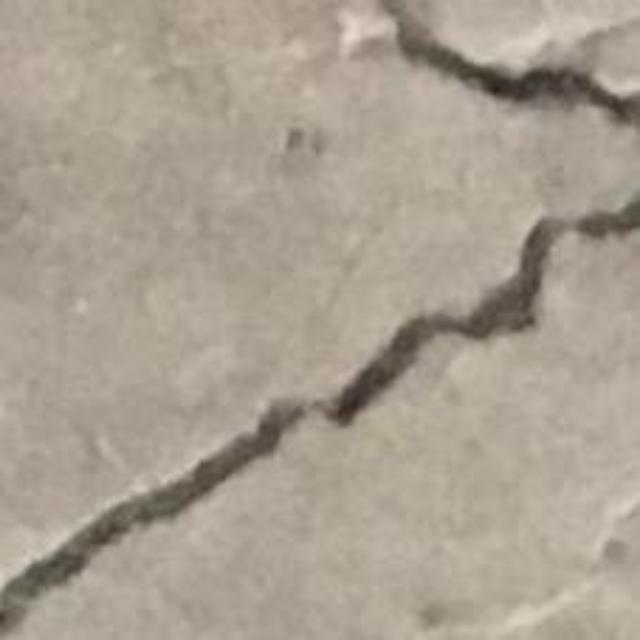crack: (0, 198, 639, 634)
